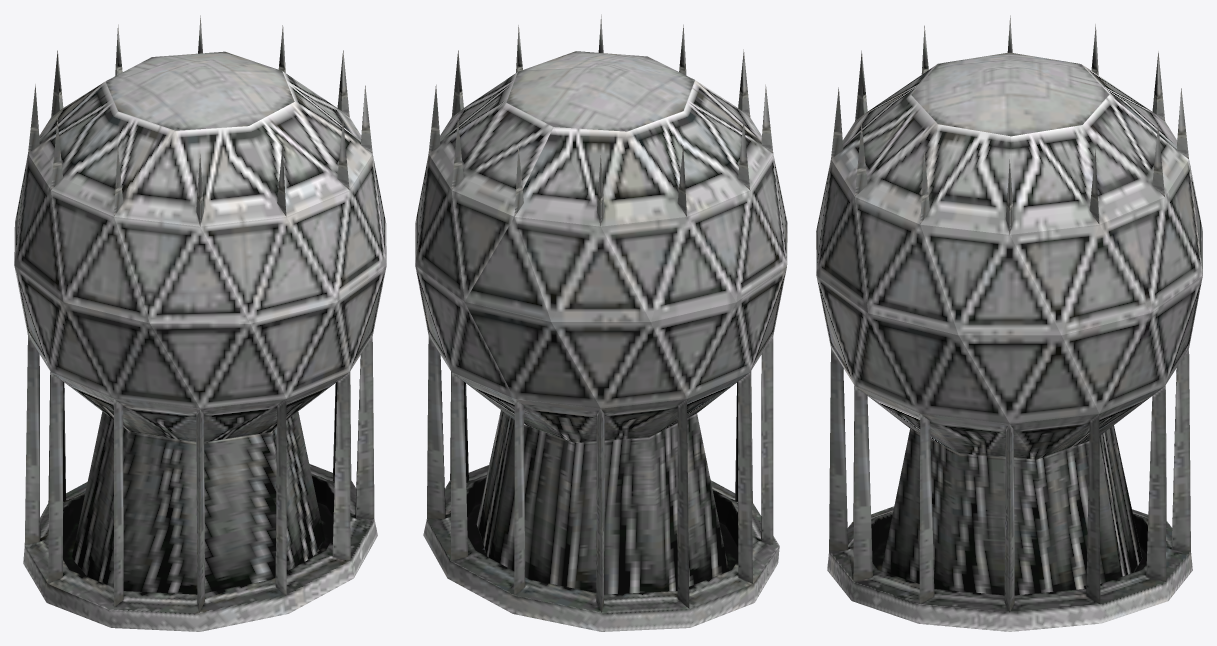
File: star_destroyer_shieldtower_1_l2.fbx
3 views of the same model, side by side, from view 1: azimuth 30°, elevation 25°; view 2: azimuth 150°, elevation 25°; view 3: azimuth 270°, elevation 25° (orthographic). The views are drawn at different scales.
Visible parts, largest first — view 1: mesh_node; view 2: mesh_node; view 3: mesh_node.
Part boxes in pixels (bbox=[...]): mesh_node: bbox=[14, 15, 386, 631]; mesh_node: bbox=[415, 14, 787, 631]; mesh_node: bbox=[816, 15, 1202, 631].
Bounding box in the file's own units: 68.03 × 100 × 68.01.
Materials: 1 (1 with a texture image).
